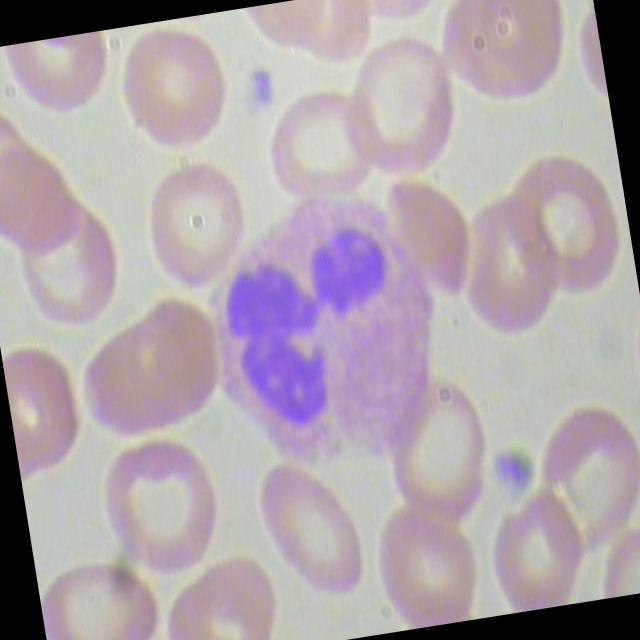Platelets: (480, 439, 546, 512), (240, 54, 288, 120)
RBC: (56, 287, 234, 463), (442, 177, 583, 365), (78, 424, 230, 589), (340, 27, 484, 195), (374, 371, 504, 544), (502, 145, 632, 316), (253, 445, 378, 621), (517, 397, 640, 572), (430, 0, 586, 127), (105, 16, 242, 160), (255, 78, 394, 218), (126, 154, 256, 298), (12, 195, 130, 342), (0, 327, 97, 487), (38, 546, 167, 640)
WBC: (175, 171, 478, 490)
